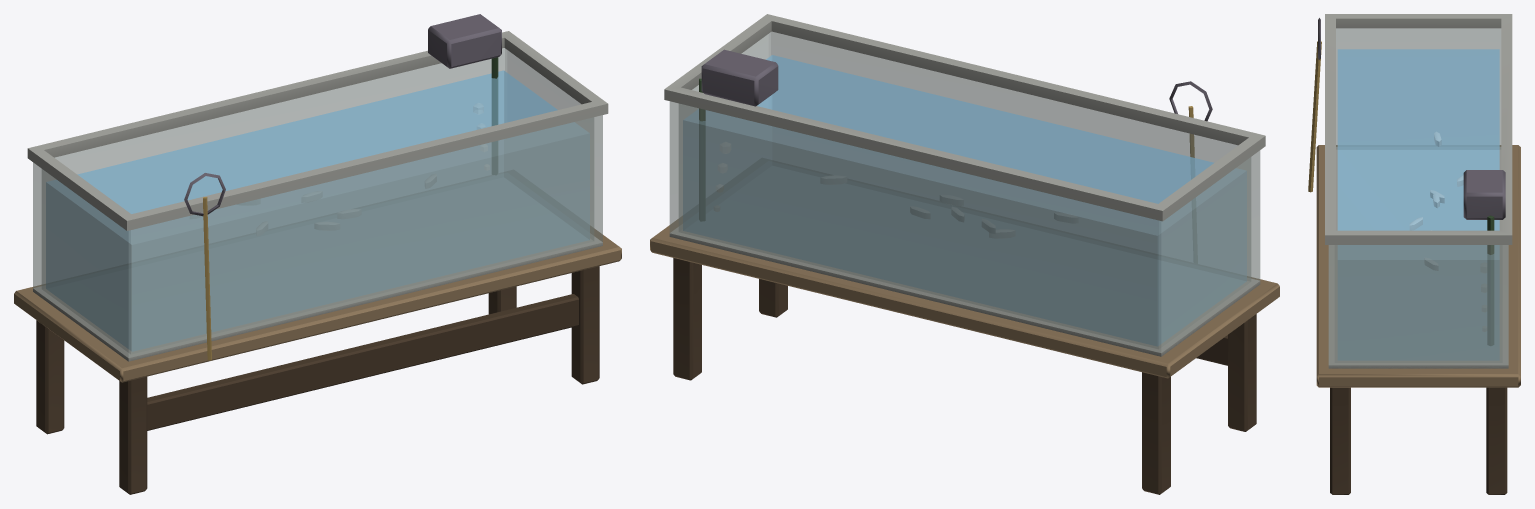
File: tank_bait.glb
The picture shows the model from 3 angles, left to right: view 1: azimuth 30°, elevation 25°; view 2: azimuth 150°, elevation 25°; view 3: azimuth 270°, elevation 25°; orthographic projection. The views are drawn at different scales.
Visible parts, largest first — view 1: tank_bait, water; view 2: tank_bait, water; view 3: tank_bait, water.
Part boxes in pixels (x1,y1,x2,y2): tank_bait: [14, 14, 621, 494]; water: [46, 70, 589, 351]; tank_bait: [650, 14, 1279, 494]; water: [683, 55, 1246, 346]; tank_bait: [1308, 14, 1520, 494]; water: [1337, 49, 1499, 360].
Size of the model in its own units: 1.82 by 1.08 by 0.708.
